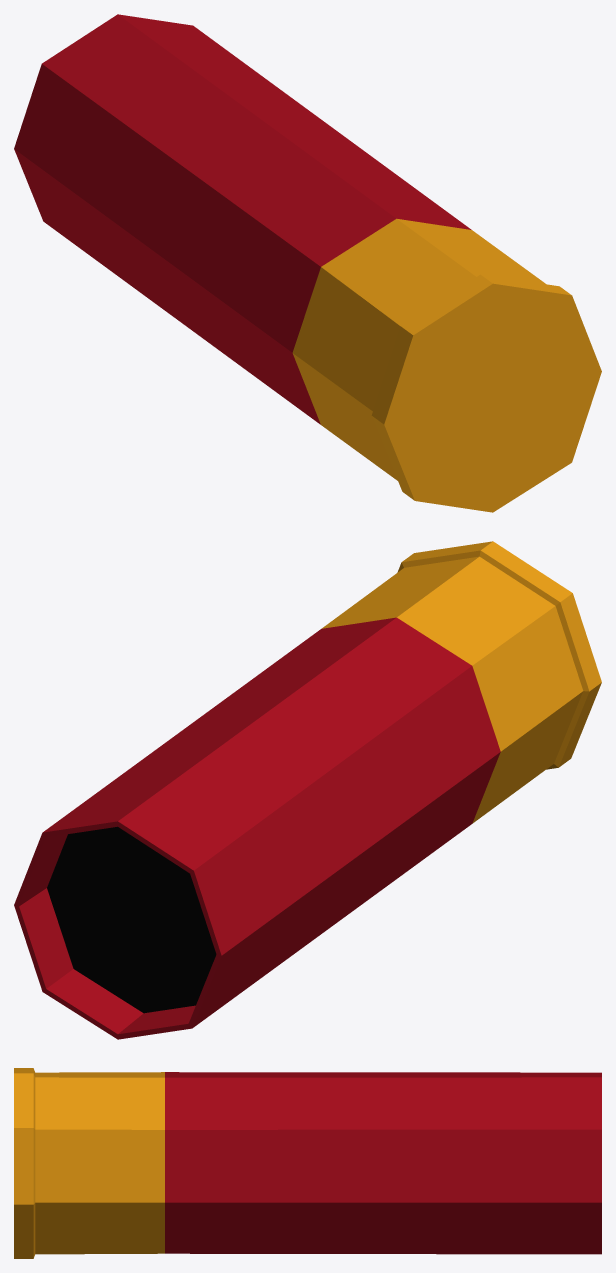
File: ShotgunShell.glb
3 renders of one model, top to bottom at view 1: azimuth 30°, elevation 25°; view 2: azimuth 150°, elevation 25°; view 3: azimuth 270°, elevation 25°, orthographic. The views are drawn at different scales.
Visible parts, largest first — view 1: ShotgunShell; view 2: ShotgunShell; view 3: ShotgunShell.
Boxes of the visible parts, bbox=[...] form: ShotgunShell: bbox=[14, 14, 601, 512]; ShotgunShell: bbox=[14, 541, 601, 1039]; ShotgunShell: bbox=[14, 1068, 601, 1258].
Size of the model in its own units: 1.53 by 1.53 by 4.55.
